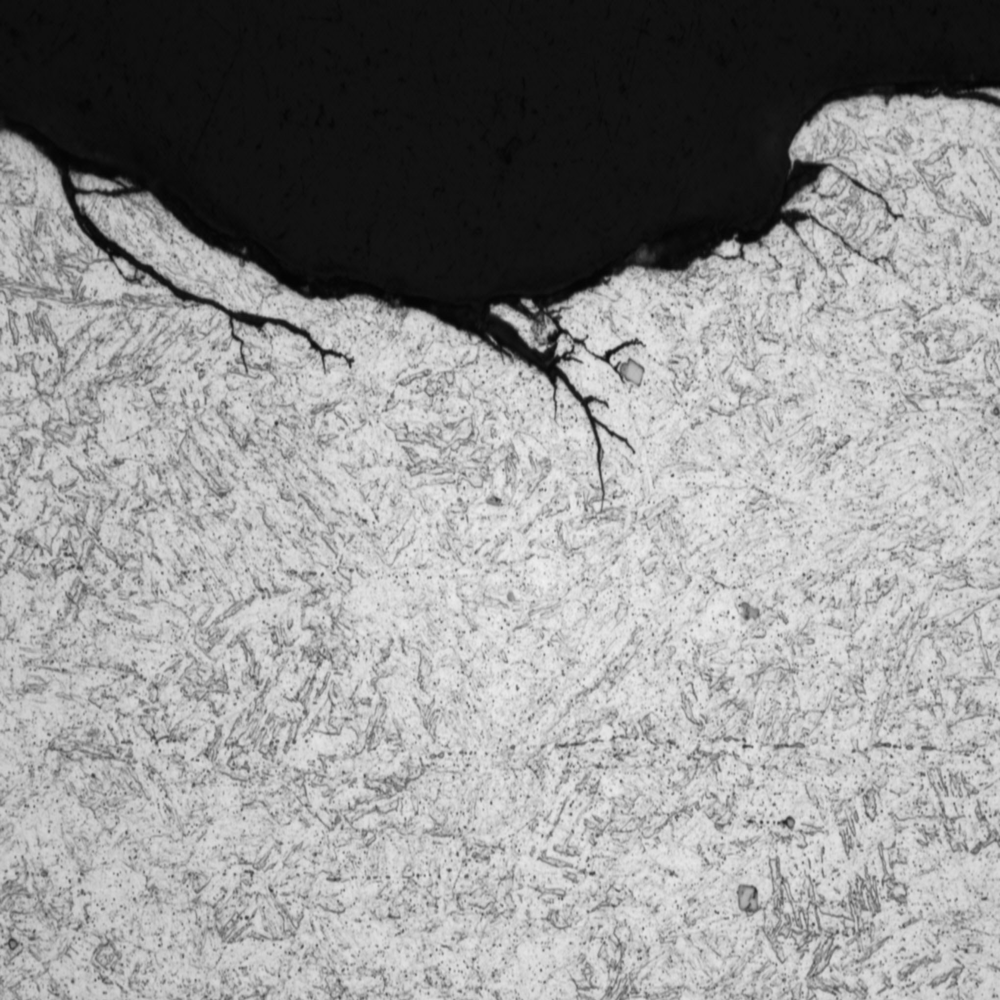crack: (57, 157, 372, 401), (424, 290, 670, 499), (750, 198, 934, 267)
